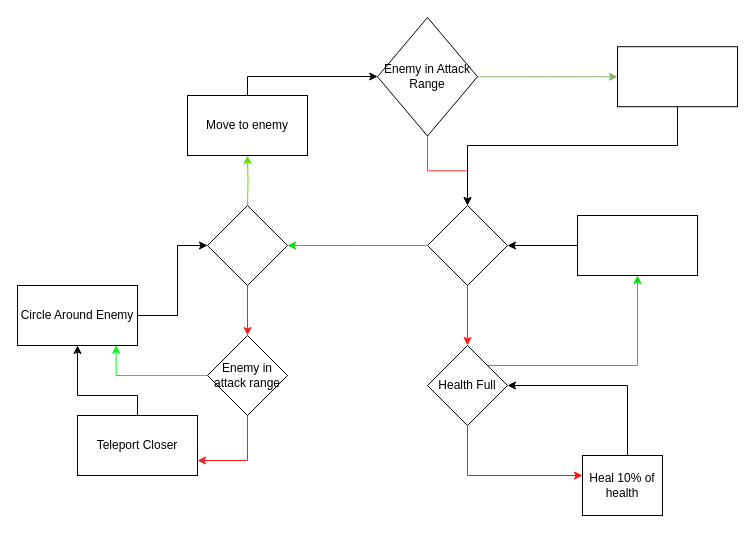
Some shapes in this 755 by 533 pixel diagram are drawn without their labels. Each missing label, with the centre of its shape:
"Any attack ready?" belongs at [247,245].
"Attack" belongs at [677,76].
"Enemy Inrange?" belongs at [467,245].
"Roaming Around" belongs at [637,245].
